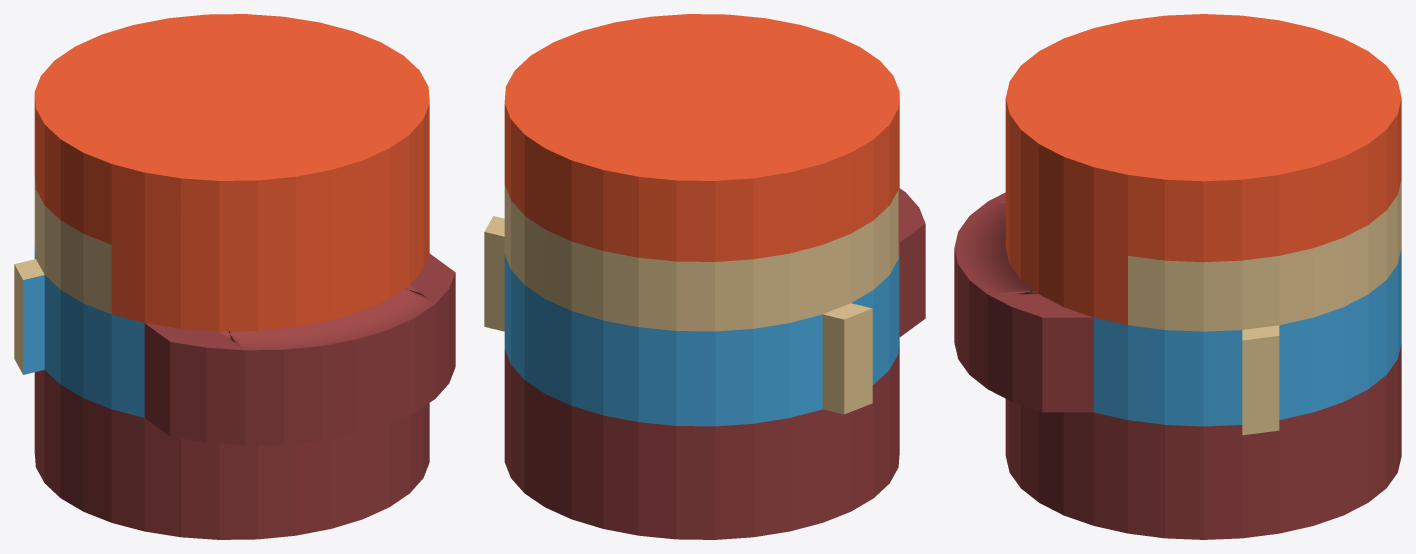
The model's file is Spawnpoint0.fbx.
3 views of the same model, side by side, from view 1: azimuth 30°, elevation 25°; view 2: azimuth 150°, elevation 25°; view 3: azimuth 270°, elevation 25° (orthographic).
Visible parts, largest first — view 1: Spawnpoint0; view 2: Spawnpoint0; view 3: Spawnpoint0.
Part boxes in pixels (x1=…): Spawnpoint0: x1=14, y1=14, x2=455, y2=539; Spawnpoint0: x1=484, y1=14, x2=925, y2=539; Spawnpoint0: x1=954, y1=14, x2=1401, y2=539.
Bounding box in the file's own units: 221 × 200 × 226.
